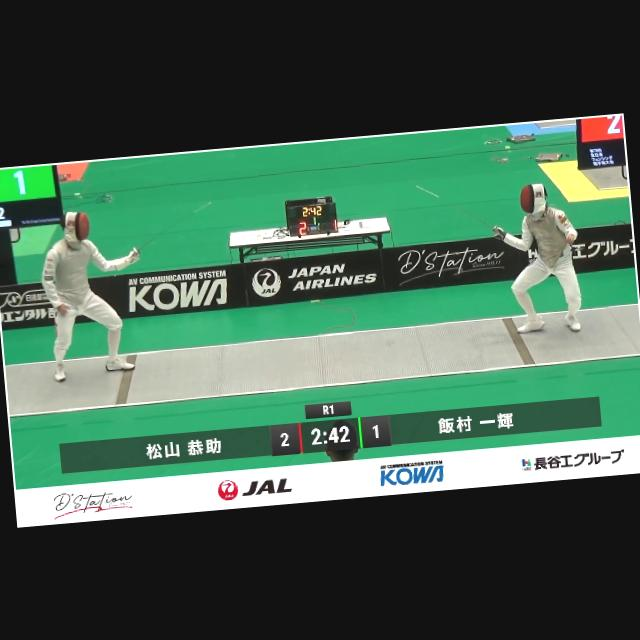blade: (123, 196, 222, 259), (414, 175, 501, 246)
